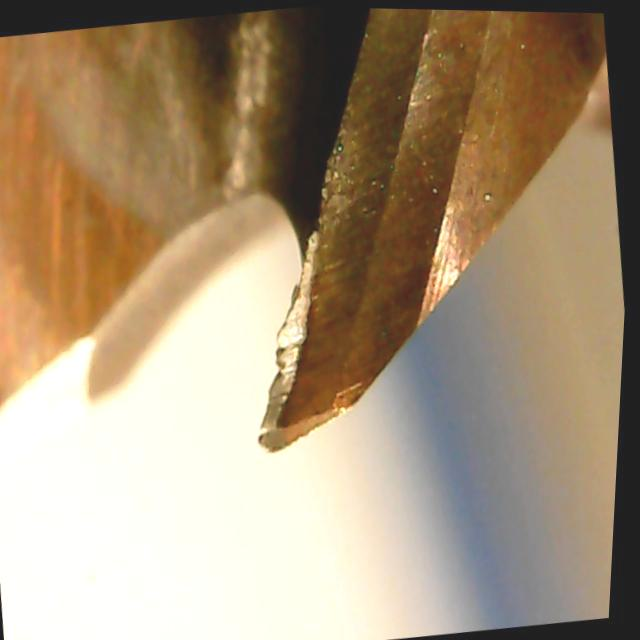Tool-wear-class-2: (227, 182, 446, 469)
